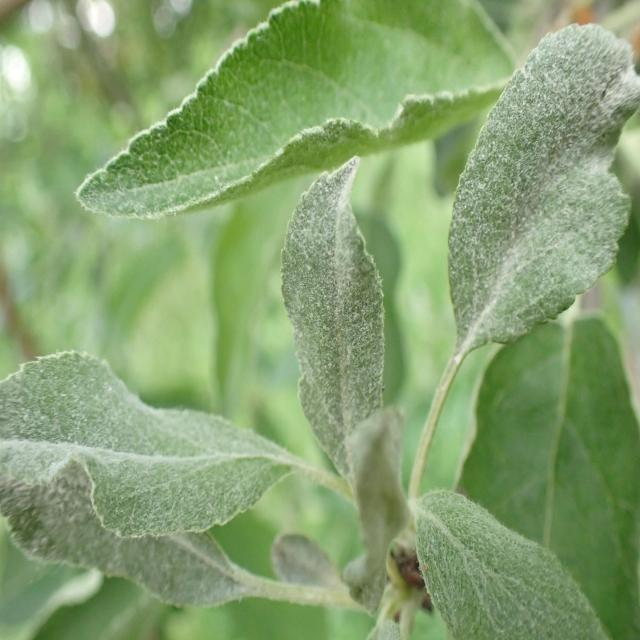Powdery_mildew: (403, 16, 640, 374), (0, 349, 306, 540), (274, 134, 406, 489), (404, 461, 626, 640), (3, 486, 274, 627), (338, 402, 418, 616), (267, 514, 355, 626)
